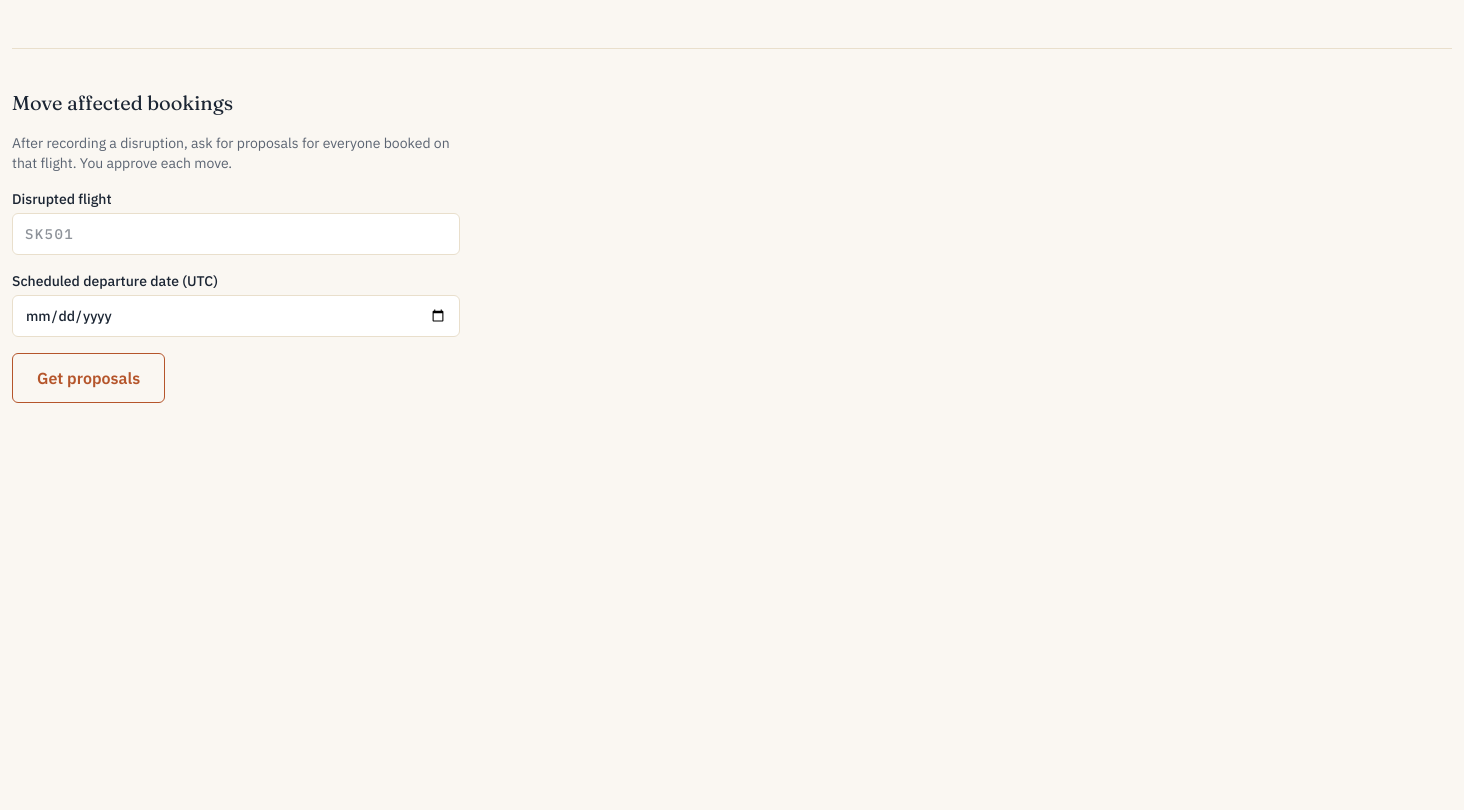
it: ProposalsPanel › moves only what is still ticked, and shows the outcome of each
The width and height of the screenshot is (1464, 810).
Submit the form named "Get proposals", box x1=12 y1=89 x2=460 y2=403
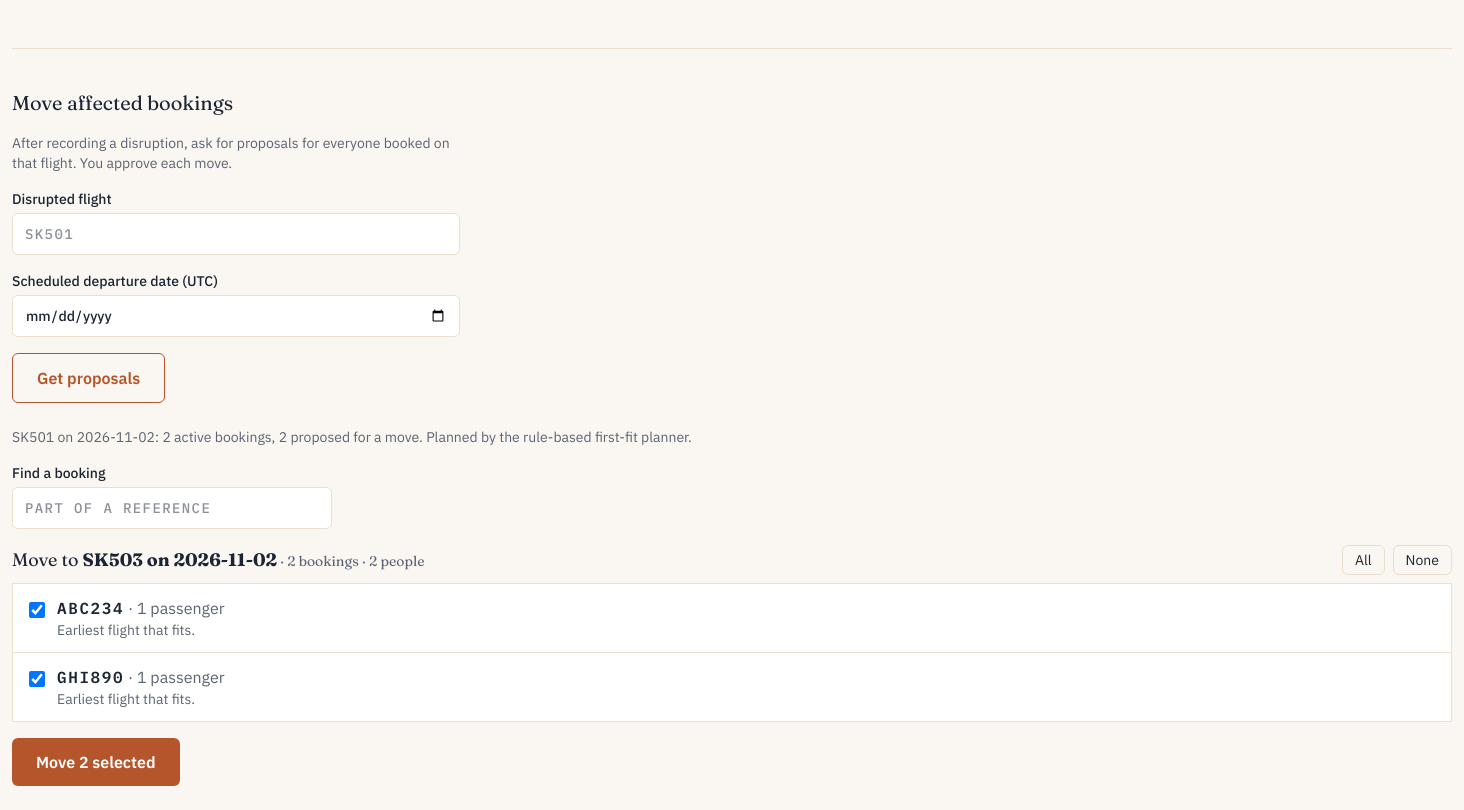
Expected: the text "ABC234" is shown, x1=57 y1=598 x2=124 y2=618
Click the checkbox named "Move ABC234": click(37, 610) x1=29 y1=602 x2=45 y2=618
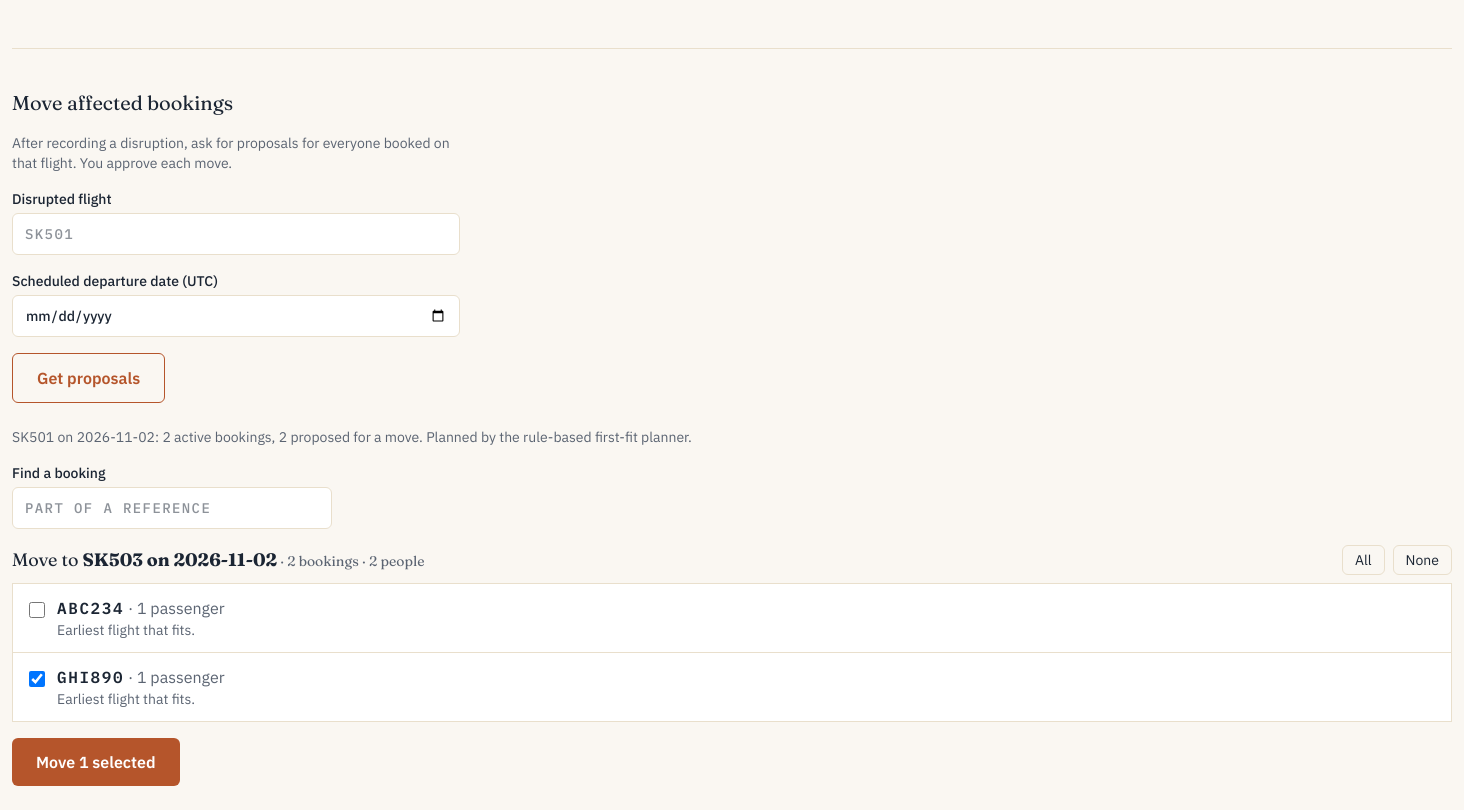
Click the button "Move 1 selected": click(96, 762) x1=12 y1=738 x2=180 y2=786
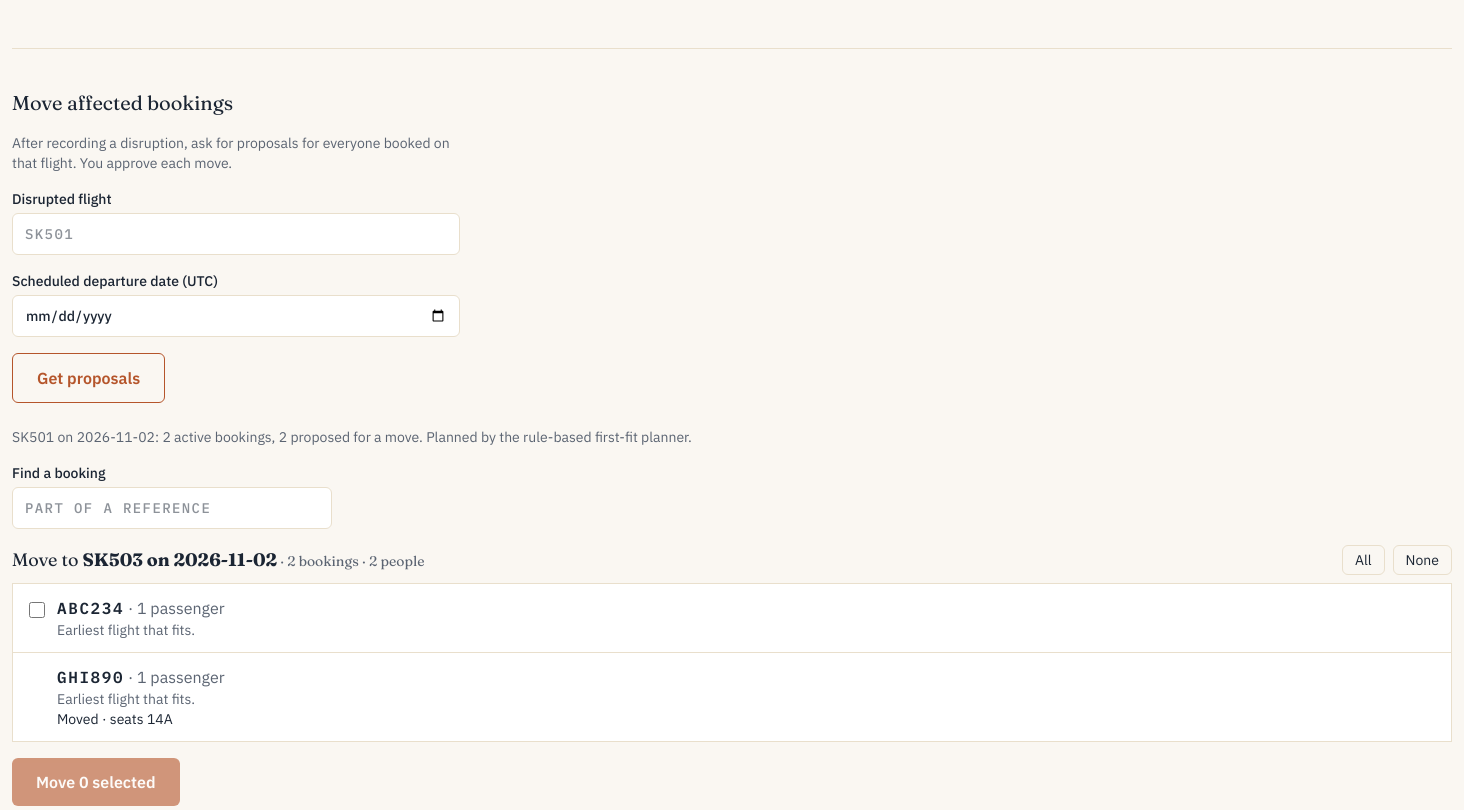
Expected: the text "Moved · seats 14A" is shown, x1=57 y1=710 x2=173 y2=728
